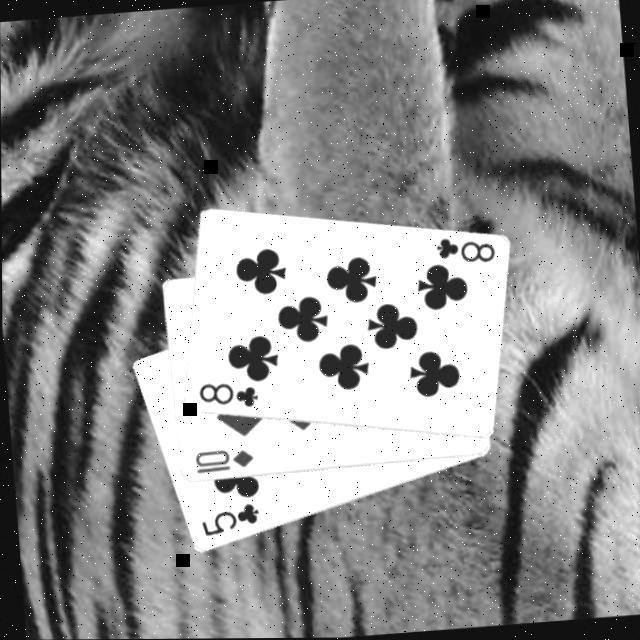10D: (191, 446, 257, 478)
5C: (198, 502, 264, 542)
8C: (196, 378, 262, 416), (433, 233, 499, 271)
